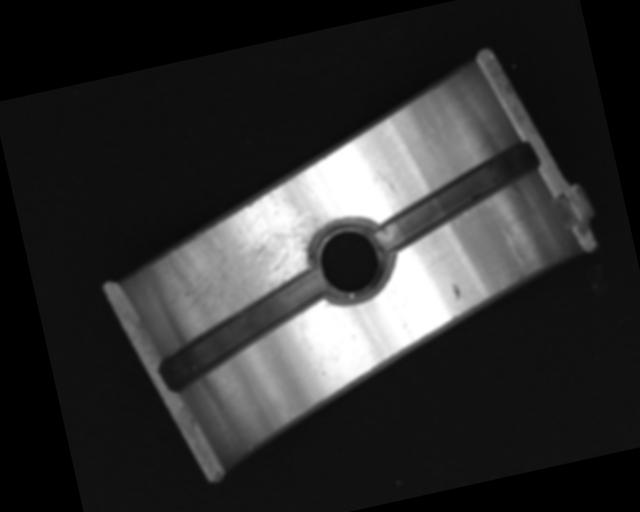bruise: (450, 280, 464, 300)
gap: (147, 269, 338, 395), (363, 138, 550, 252)
hole: (300, 209, 402, 313)
nick: (374, 164, 407, 211), (498, 223, 527, 276)
scratch: (144, 159, 357, 337)
